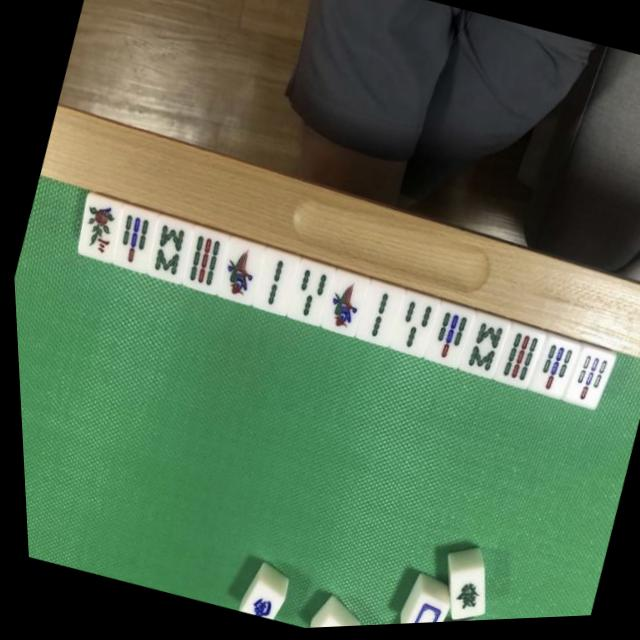bs3: (71, 196, 119, 261)
sb1: (210, 238, 261, 304), (315, 272, 365, 337)
sb2: (246, 251, 295, 315), (350, 285, 398, 346)
sb3: (384, 295, 435, 358), (281, 263, 330, 325)
sb7: (105, 206, 156, 272), (420, 307, 468, 369), (561, 351, 607, 412), (530, 342, 572, 402)
sb8: (455, 319, 504, 381), (142, 218, 188, 282)
sb9: (487, 327, 541, 392), (175, 230, 225, 293)
